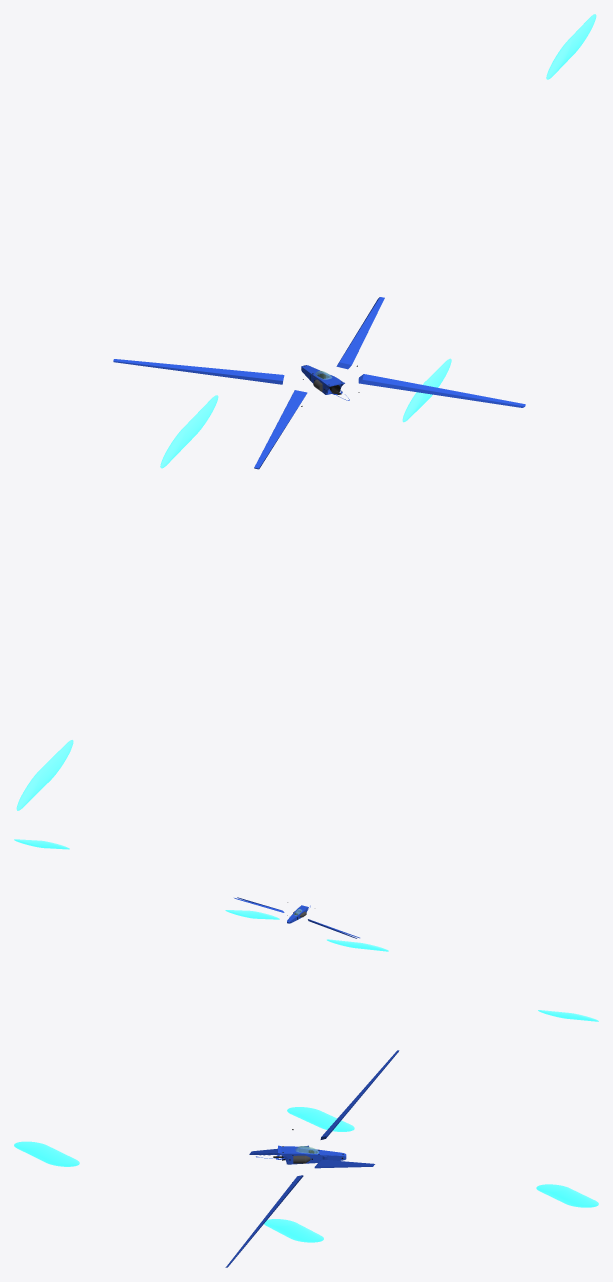
Rendered from fighterGen7 - Copy.fbx.
3 renders of one model, top to bottom at view 1: azimuth 30°, elevation 25°; view 2: azimuth 150°, elevation 25°; view 3: azimuth 270°, elevation 25°, orthographic. The views are drawn at different scales.
Visible parts, largest first — view 1: Wing, Gunpod; view 2: Gunpod, Wing; view 3: Gunpod, Wing, Hull.
Boxes of the visible parts, bbox=[...] form: Wing: bbox=[113, 297, 525, 469]; Gunpod: bbox=[16, 14, 596, 810]; Gunpod: bbox=[14, 839, 598, 1021]; Wing: bbox=[234, 897, 359, 938]; Gunpod: bbox=[14, 1107, 598, 1242]; Wing: bbox=[225, 1050, 399, 1267]; Hull: bbox=[278, 1145, 346, 1164].
Bounding box in the file's own units: 204 × 82.02 × 119.
